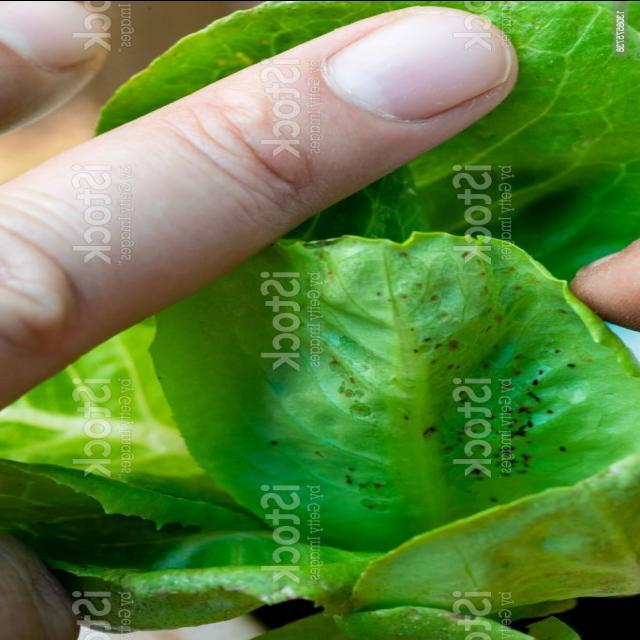Baby: (256, 260, 540, 493)
